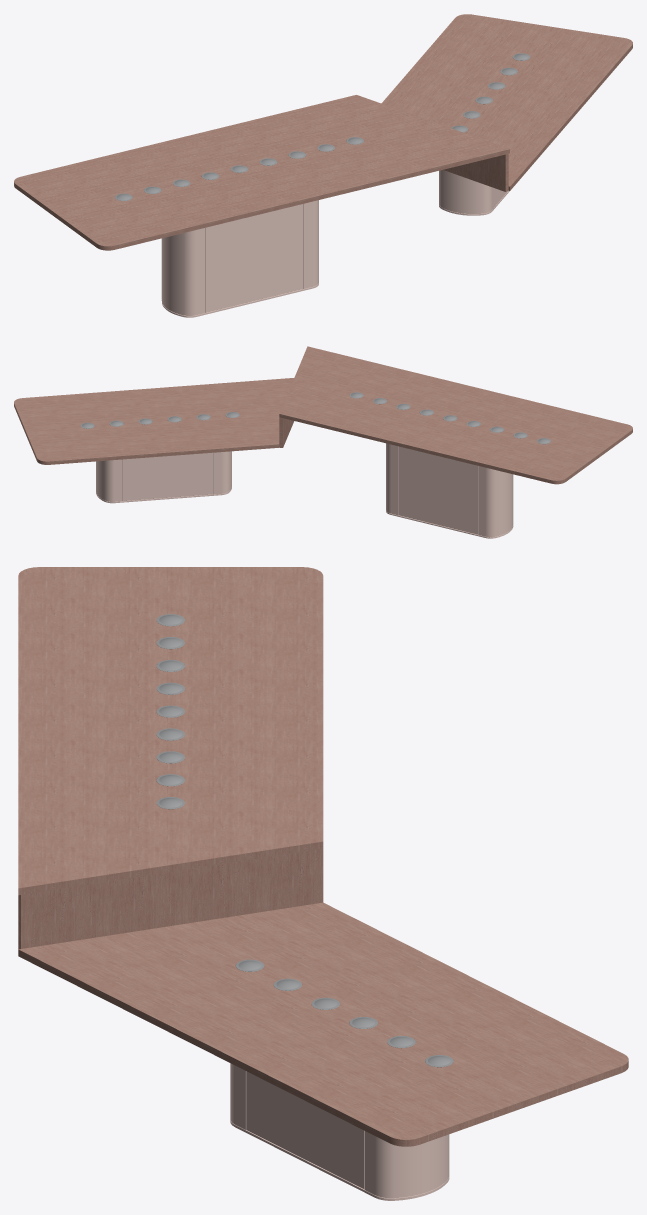
File: Centro_Split.glb
3 views of the same model, one above another, from view 1: azimuth 30°, elevation 25°; view 2: azimuth 150°, elevation 25°; view 3: azimuth 270°, elevation 25° (orthographic). The views are drawn at different scales.
Parts seen in each view (by area): view 1: BRep_1; view 2: BRep_1; view 3: BRep_1.
Boxes of the visible parts, x1,y1,x2,y2 form: BRep_1: (14,14,632,317); BRep_1: (14,346,632,538); BRep_1: (18,567,628,1200).
Bounding box in the file's own units: 5.76 × 1.06 × 2.9.
Materials: 3 (1 with a texture image).
